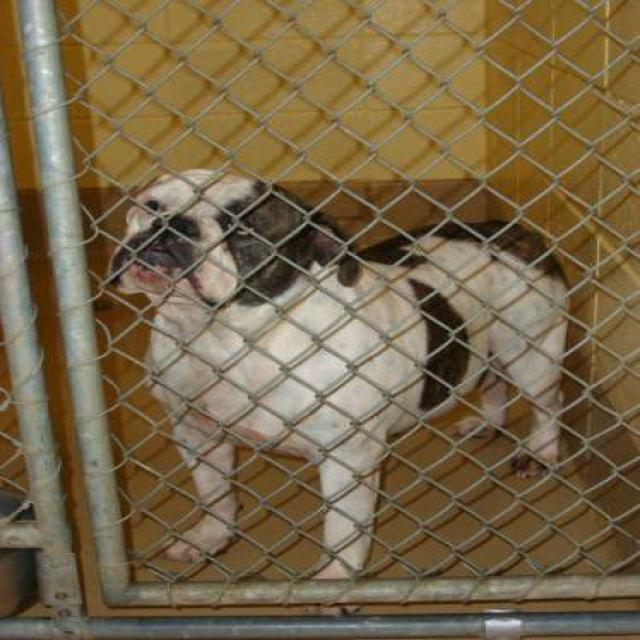dog: (103, 167, 572, 613)
